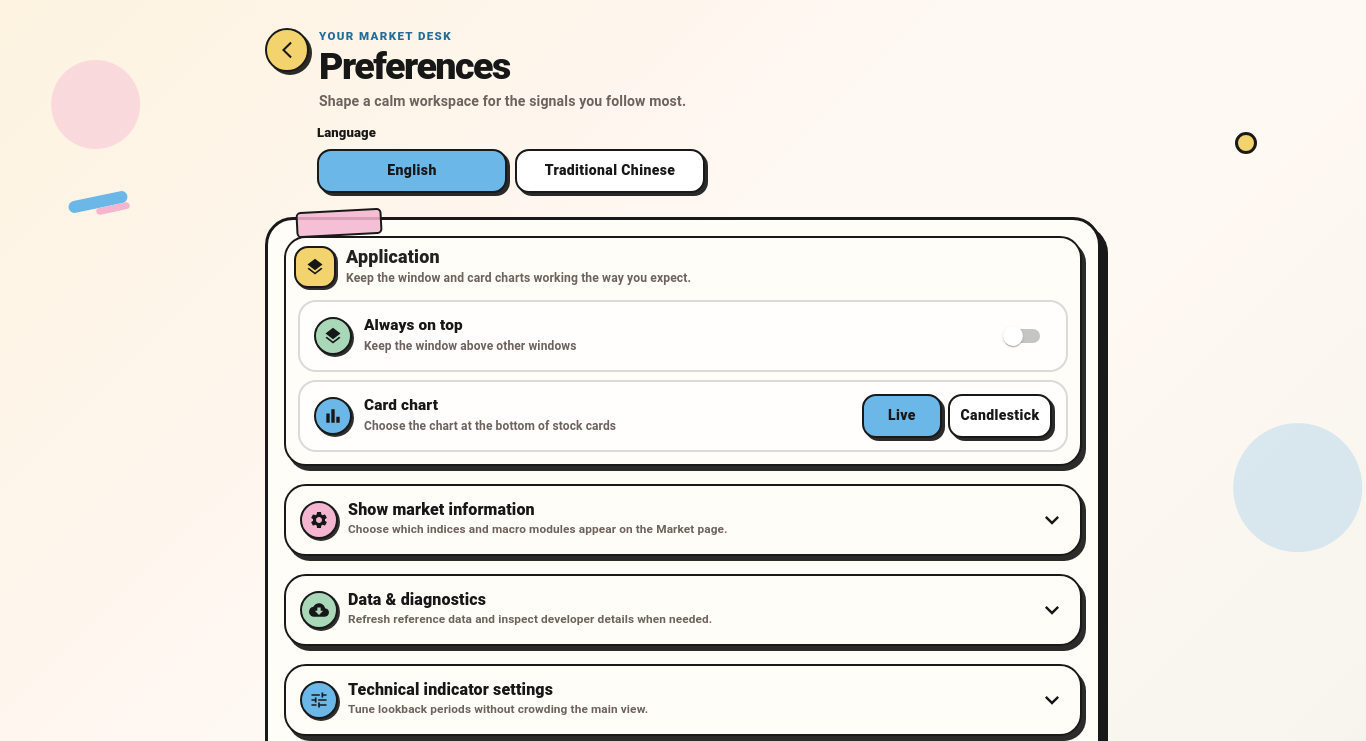
Test: Settings page › keeps the update action readable while busy
Click the button "Data & diagnostics": (683, 610) [286,576,1080,644]
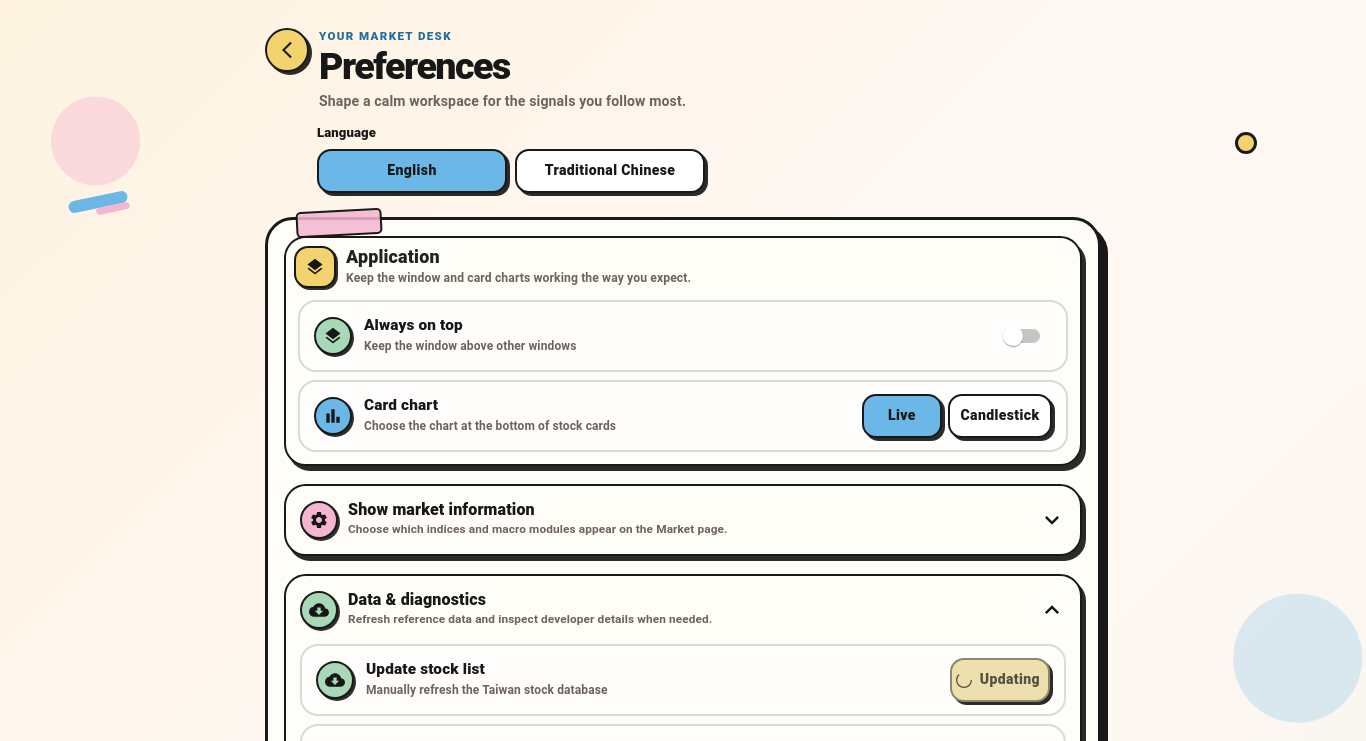
Result: the button "Updating" is shown at [950,658,1050,702]
